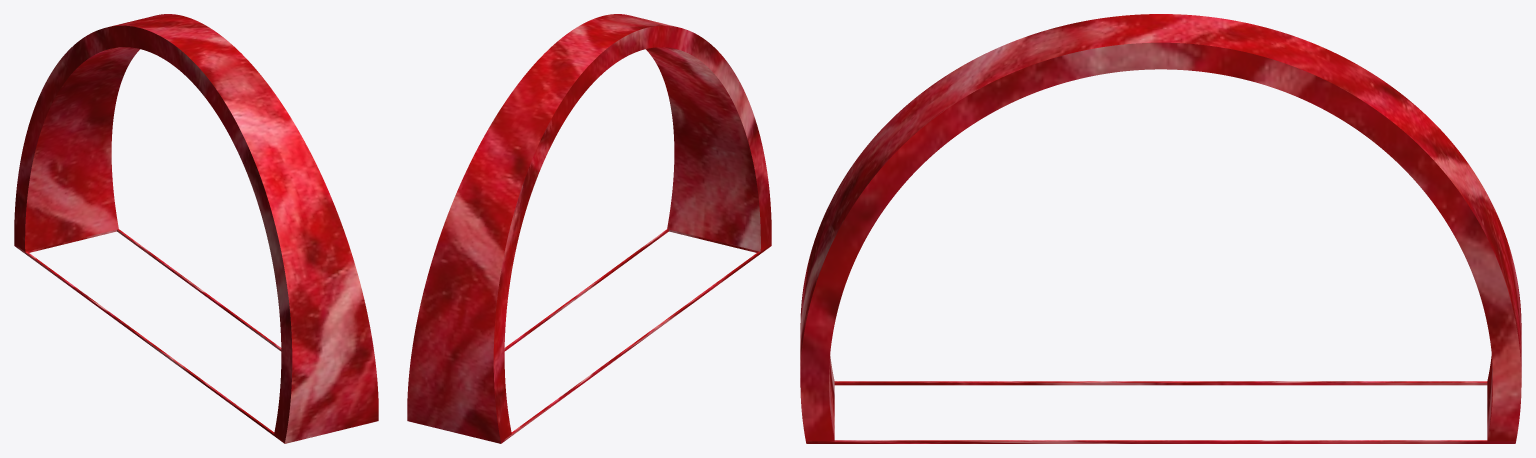
Rendered from real_gate.dae.
3 renders of one model, left to right at view 1: azimuth 30°, elevation 25°; view 2: azimuth 150°, elevation 25°; view 3: azimuth 270°, elevation 25°, orthographic. The views are drawn at different scales.
Parts seen in each view (by area): view 1: Gate; view 2: Gate; view 3: Gate.
Part boxes in pixels (box(x1,y1,x2,y2)): Gate: box(14, 14, 378, 443); Gate: box(407, 14, 771, 443); Gate: box(800, 14, 1521, 443).
Size of the model in its own units: 0.5 by 2.54 by 1.5.
